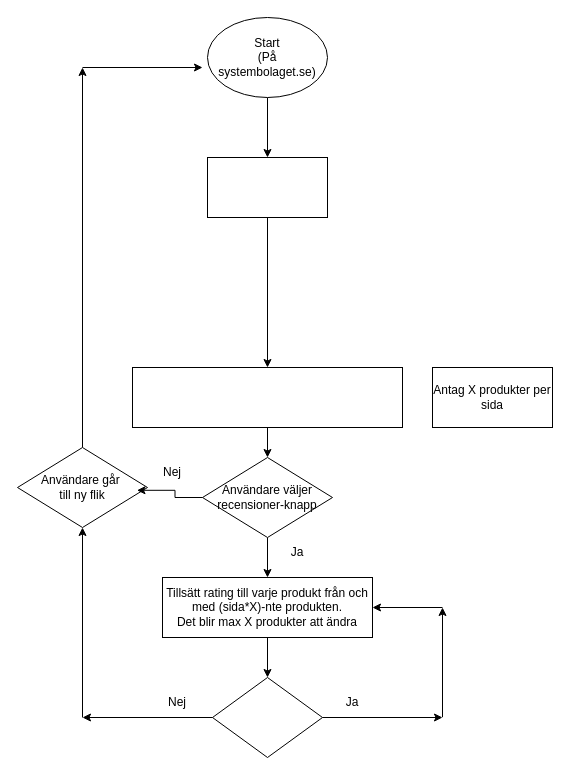
This 570x775 diagram has some shape labels left out. The box of each missing label's shape, as (x1, y1, x2, y2) in pixels:
Användare klickar nästa sida: (212, 676, 322, 758)
generera JSON fil för alla drickor som uppfyller sorteringsval: (132, 366, 402, 428)
Går in på produktlsta: (206, 156, 328, 218)
